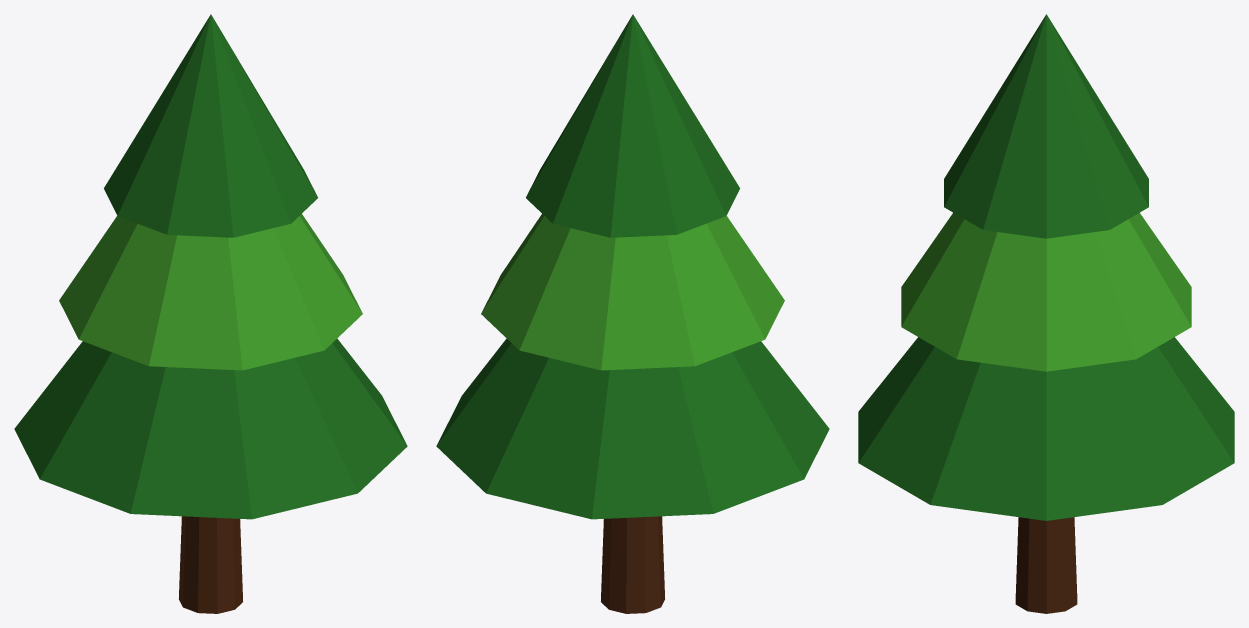
The model's file is Tree_Pine.obj.
3 views of the same model, side by side, from view 1: azimuth 30°, elevation 25°; view 2: azimuth 150°, elevation 25°; view 3: azimuth 270°, elevation 25° (orthographic).
Visible parts, largest first — view 1: Tree_Pine; view 2: Tree_Pine; view 3: Tree_Pine.
Boxes of the visible parts, x1,y1,x2,y2 form: Tree_Pine: (14,14,407,613); Tree_Pine: (436,14,829,613); Tree_Pine: (858,14,1234,613).
Size of the model in its own units: 2.2 by 3.6 by 2.09.
